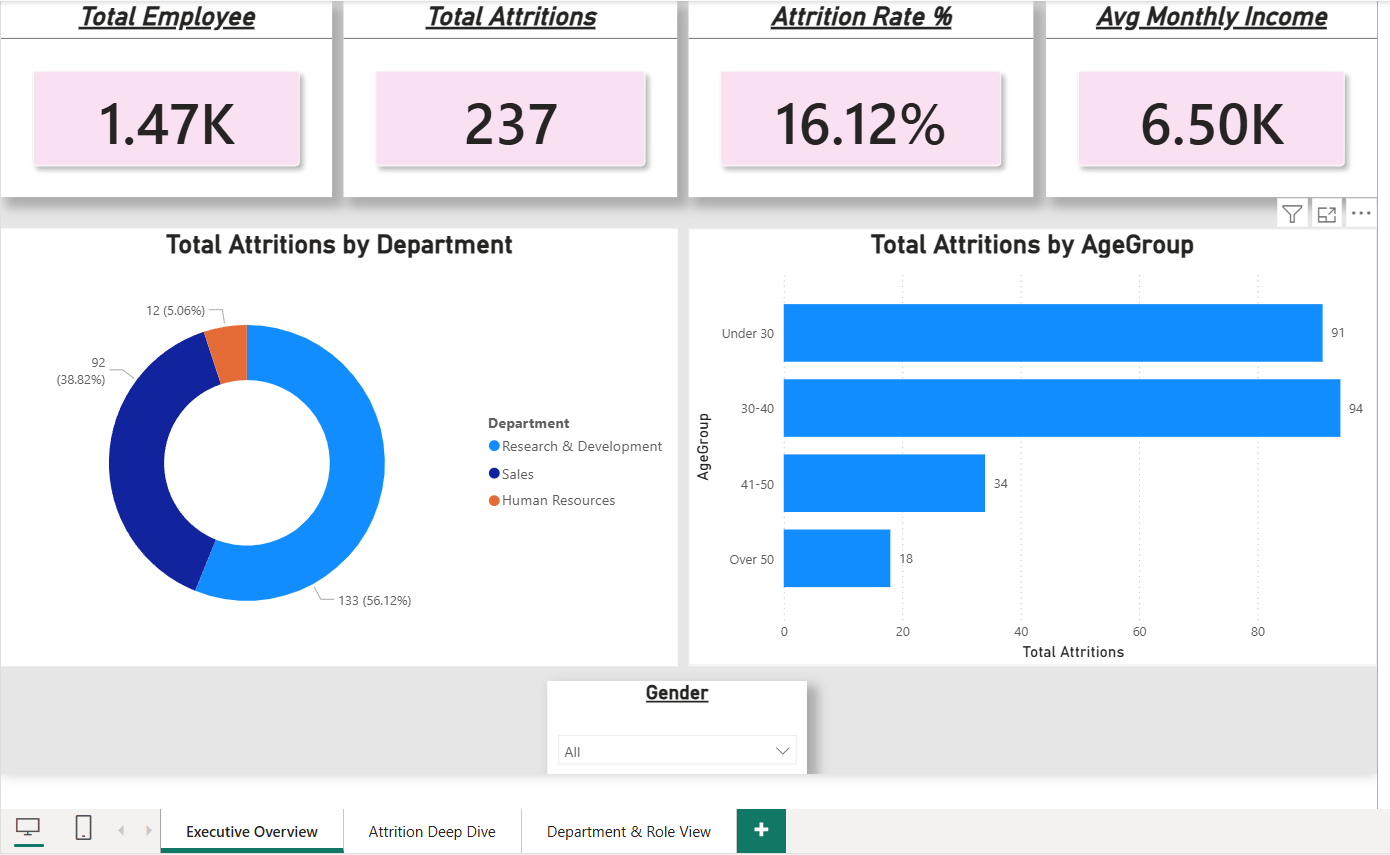

Layout of this report page (visuals, bound fields, positions):
{"tool":"powerbi","page":{"name":"Executive Overview","canvas":[1280,720],"ordinal":0},"visuals":[{"type":"cardVisual","title":"Total Employee","fields":{"Data":["_Measures.Total Employees"]},"box":[0,0,307.9,182.5],"z":0},{"type":"cardVisual","title":"Total Attritions","fields":{"Data":["_Measures.Total Attritions"]},"box":[319,0,310.7,182.5],"z":1000},{"type":"cardVisual","title":"Attrition Rate %","fields":{"Data":["_Measures.Attrition Rate %"]},"box":[639.4,0,320.9,182.2],"z":2000},{"type":"cardVisual","title":"Avg Monthly Income","fields":{"Data":["_Measures.Avg Monthly Income"]},"box":[972.4,0,307.6,182.2],"z":3000},{"type":"donutChart","fields":{"Category":["HR Data.Department"],"Y":["_Measures.Total Attritions"]},"box":[0,211.4,629.9,406.9],"z":4000},{"type":"clusteredBarChart","fields":{"Y":["_Measures.Total Attritions"],"Category":["HR Data.AgeGroup"]},"box":[640,211.4,640,406.9],"z":5000},{"type":"slicer","title":"Gender","fields":{"Values":["HR Data.Gender"]},"box":[508.2,632.8,241.8,86.9],"z":6000}]}

Visuals, with their boxes on the page's 1280x720 design canvas (x1, y1, x2, y2). These are canvas units, not pixel positions in the 1390x855 screenshot, which may show the page scaled, cropped or inside an application window:
"Total Employee" cardVisual: [0, 0, 308, 182]
"Total Attritions" cardVisual: [319, 0, 630, 182]
"Attrition Rate %" cardVisual: [639, 0, 960, 182]
"Avg Monthly Income" cardVisual: [972, 0, 1280, 182]
donutChart - HR Data.Department x _Measures.Total Attritions: [0, 211, 630, 618]
clusteredBarChart - _Measures.Total Attritions x HR Data.AgeGroup: [640, 211, 1280, 618]
"Gender" slicer: [508, 633, 750, 720]
